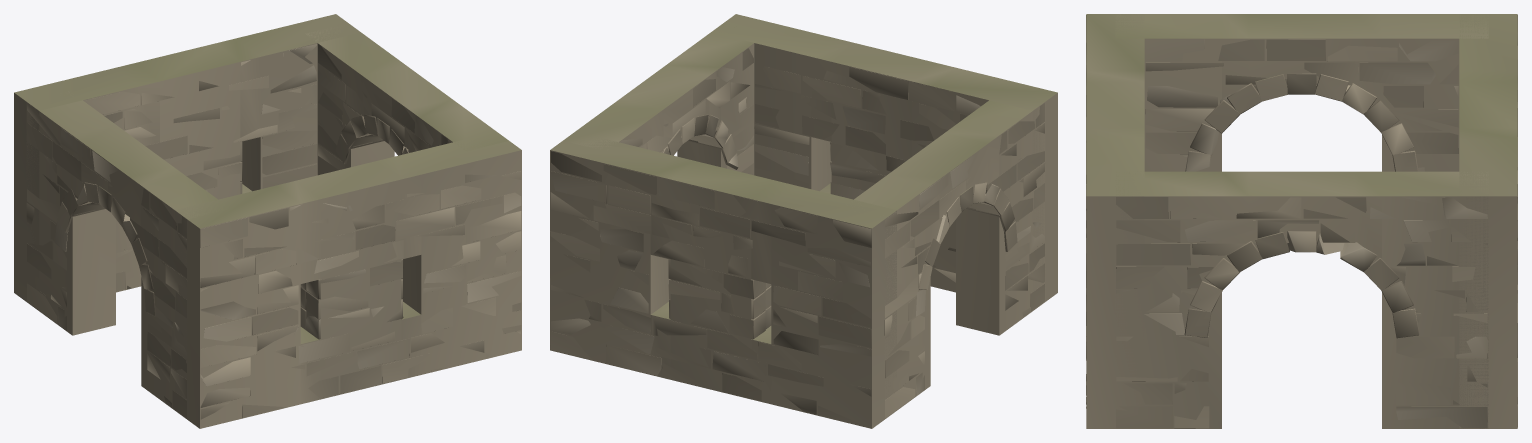
Rendered from citadel_tower_storey.glb.
3 renders of one model, left to right at view 1: azimuth 30°, elevation 25°; view 2: azimuth 150°, elevation 25°; view 3: azimuth 270°, elevation 25°, orthographic. The views are drawn at different scales.
Visible parts, largest first — view 1: citadel_tower_storey_far, citadel_tower_storey; view 2: citadel_tower_storey_far, citadel_tower_storey; view 3: citadel_tower_storey_far, citadel_tower_storey.
Part boxes in pixels (<box>): citadel_tower_storey_far: <box>14,14,521,428</box>; citadel_tower_storey: <box>26,44,521,419</box>; citadel_tower_storey_far: <box>550,14,1057,428</box>; citadel_tower_storey: <box>550,48,1045,426</box>; citadel_tower_storey_far: <box>1086,14,1517,428</box>; citadel_tower_storey: <box>1086,15,1517,428</box>.
Bounding box in the file's own units: 37.52 × 22 × 37.02.
